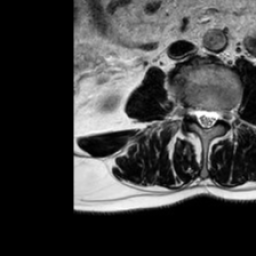CCS_normal: (202, 98, 209, 139)
LFS_normal: (218, 97, 228, 129)
LLS_normal: (209, 99, 218, 131)
RFS_normal: (185, 95, 194, 125)
RLS_normal: (194, 99, 202, 130)
